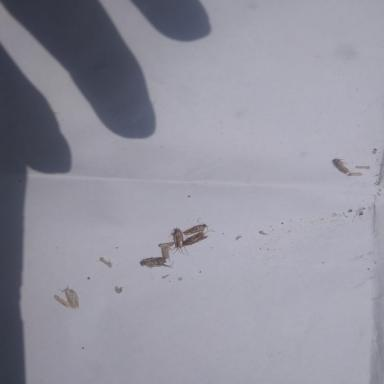pbw: (180, 230, 210, 255), (182, 218, 213, 236), (60, 284, 80, 309), (168, 227, 184, 255), (139, 256, 175, 268), (331, 157, 349, 174), (161, 246, 170, 262), (158, 241, 174, 249)
